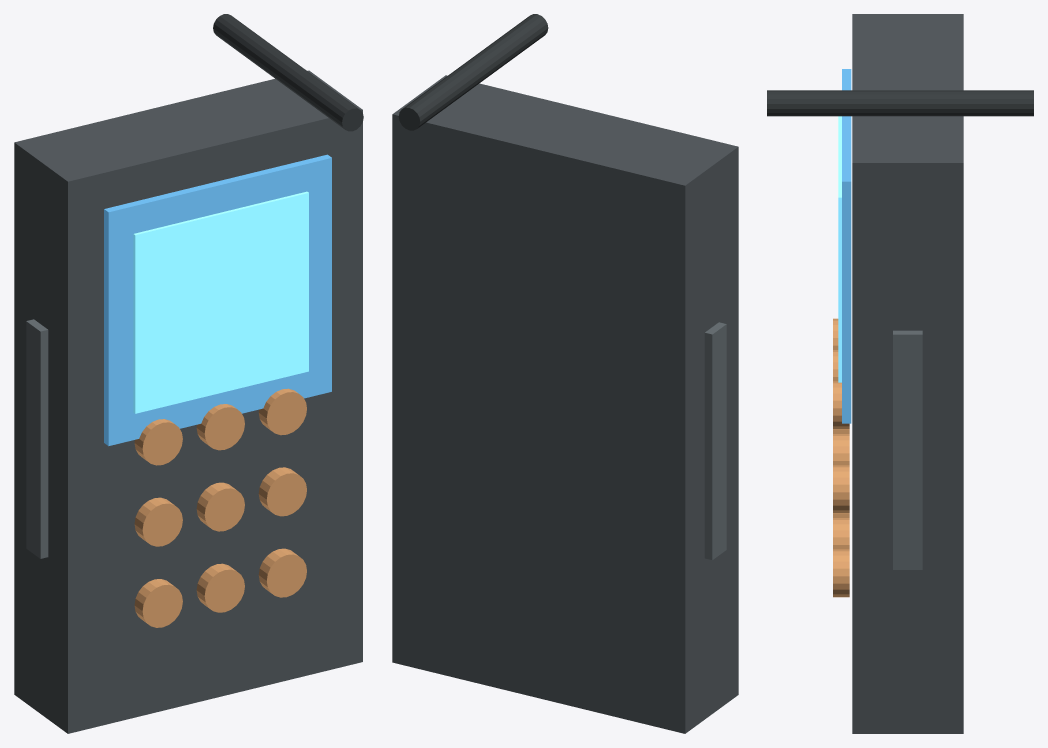
Rendered from handheld-hack.glb.
3 renders of one model, left to right at view 1: azimuth 30°, elevation 25°; view 2: azimuth 150°, elevation 25°; view 3: azimuth 270°, elevation 25°, orthographic. The views are drawn at different scales.
Parts seen in each view (by area): view 1: part_0, part_2, part_1, part_13, part_12, part_6, part_11, part_7, part_8, part_10, part_9, part_4 (+2 smaller); view 2: part_0, part_13, part_12; view 3: part_0, part_12, part_14, part_1, part_2, part_8, part_11, part_7, part_10, part_5.
Part boxes in pixels (x1,y1,x2,y2): part_0: [14, 70, 362, 733]; part_2: [133, 191, 308, 413]; part_1: [104, 154, 331, 446]; part_13: [26, 319, 48, 558]; part_12: [213, 14, 363, 131]; part_6: [134, 497, 182, 546]; part_11: [258, 548, 306, 597]; part_7: [196, 482, 244, 531]; part_8: [258, 467, 306, 516]; part_10: [196, 563, 244, 612]; part_9: [134, 579, 182, 627]; part_4: [196, 404, 244, 450]; part_0: [392, 75, 738, 733]; part_13: [704, 322, 726, 560]; part_12: [398, 14, 548, 130]; part_0: [852, 14, 963, 733]; part_12: [767, 90, 1033, 116]; part_14: [893, 330, 922, 569]; part_1: [842, 69, 851, 423]; part_2: [838, 116, 841, 382]; part_8: [833, 465, 849, 513]; part_11: [833, 549, 849, 597]; part_7: [833, 434, 849, 465]; part_10: [833, 518, 849, 549]; part_5: [833, 381, 849, 429].
Size of the model in its own units: 1 by 1.84 by 0.72.
